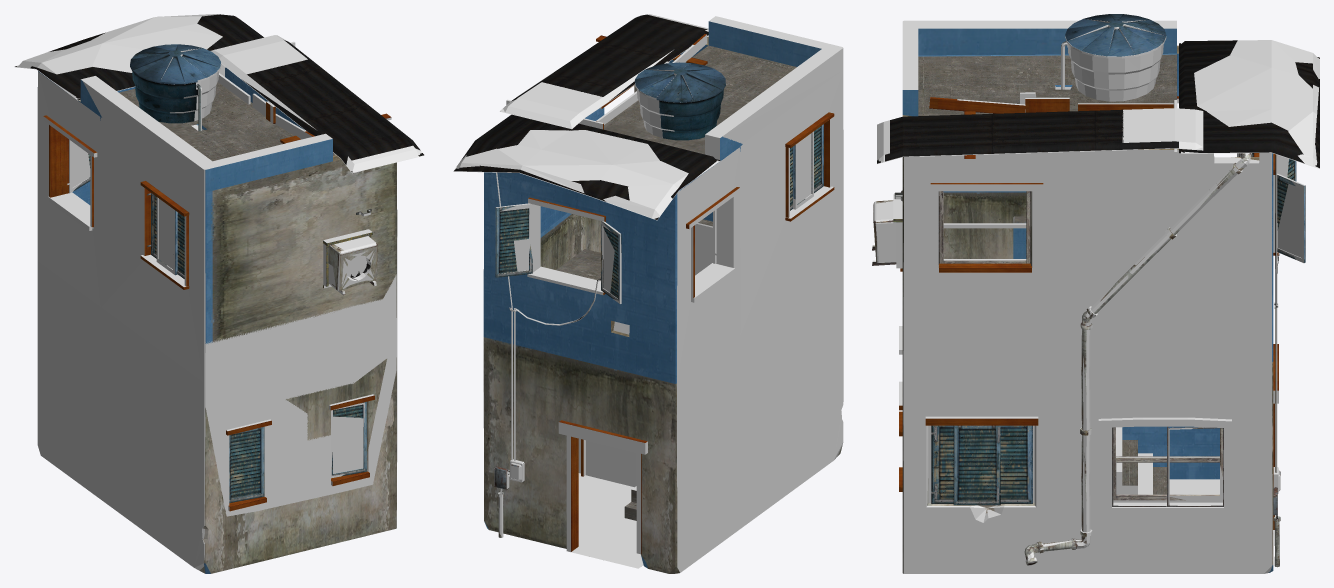
File: hei_prop_heist_pic_06.fbx
3 views of the same model, side by side, from view 1: azimuth 30°, elevation 25°; view 2: azimuth 150°, elevation 25°; view 3: azimuth 270°, elevation 25° (orthographic). The views are drawn at different scales.
Visible parts, largest first — view 1: UTM_Geometry, Object_LOD0; view 2: UTM_Geometry, Object_LOD0; view 3: UTM_Geometry, Object_LOD0.
Boxes of the visible parts, x1,y1,x2,y2 form: UTM_Geometry: (15,14,423,570); Object_LOD0: (15,14,423,573); UTM_Geometry: (453,14,843,572); Object_LOD0: (454,14,842,573); UTM_Geometry: (872,19,1319,573); Object_LOD0: (872,14,1319,573).
Bounding box in the file's own units: 452 × 858 × 718.
